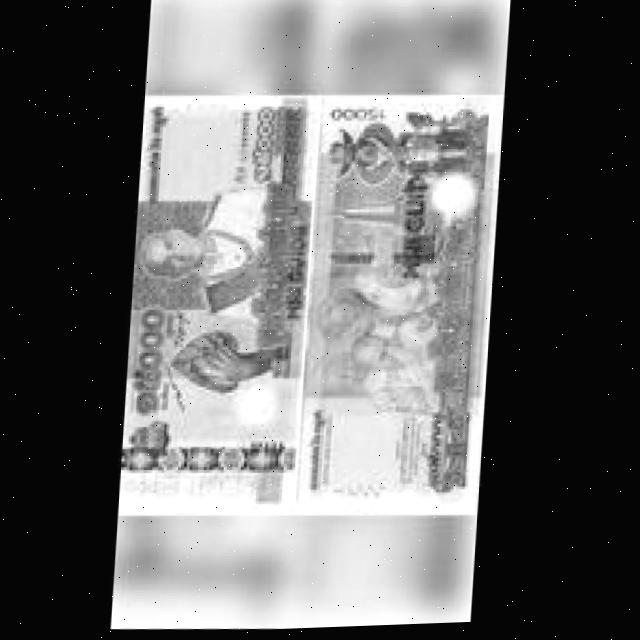banknote: (297, 83, 500, 538), (120, 81, 323, 527), (324, 100, 393, 132)
